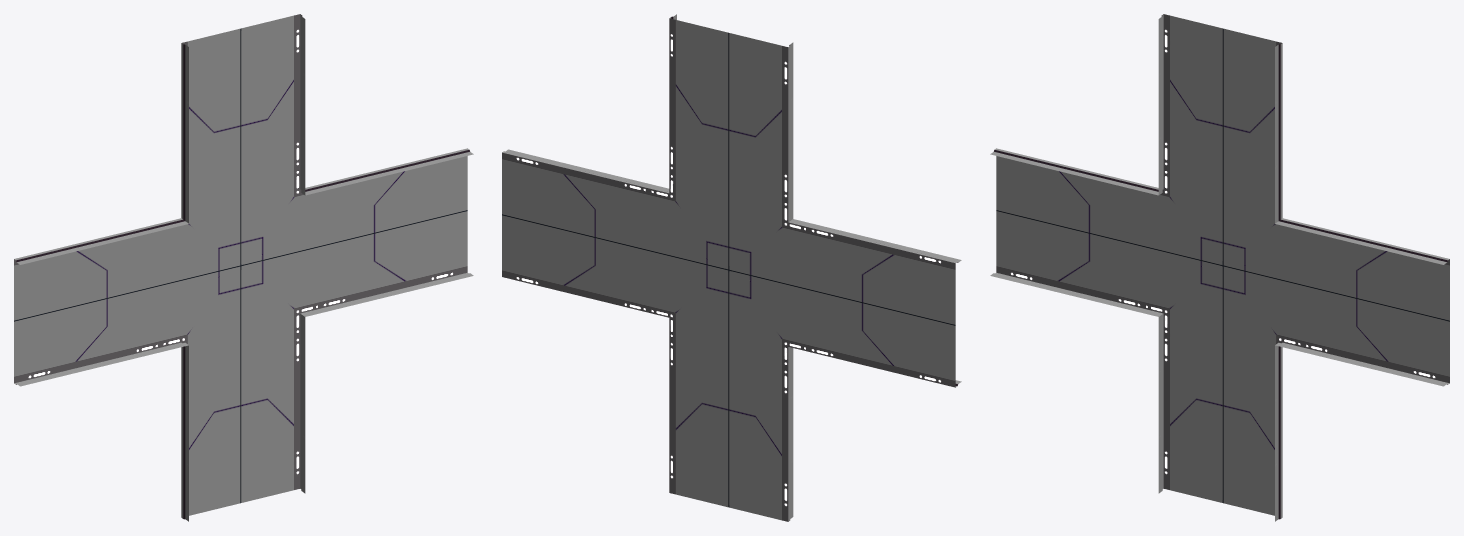
Rendered from SM_L_XSideWalk.fbx.
The picture shows the model from 3 angles, left to right: view 1: azimuth 30°, elevation 25°; view 2: azimuth 150°, elevation 25°; view 3: azimuth 330°, elevation 25°; orthographic projection.
Parts seen in each view (by area): view 1: SM_L_XSideWalk; view 2: SM_L_XSideWalk; view 3: SM_L_XSideWalk.
Part boxes in pixels (left/top/right/bottom): SM_L_XSideWalk: left=14, top=14, right=473, bottom=521; SM_L_XSideWalk: left=502, top=14, right=961, bottom=521; SM_L_XSideWalk: left=990, top=14, right=1449, bottom=521.
Bounding box in the file's own units: 4389 × 4389 × 105.
